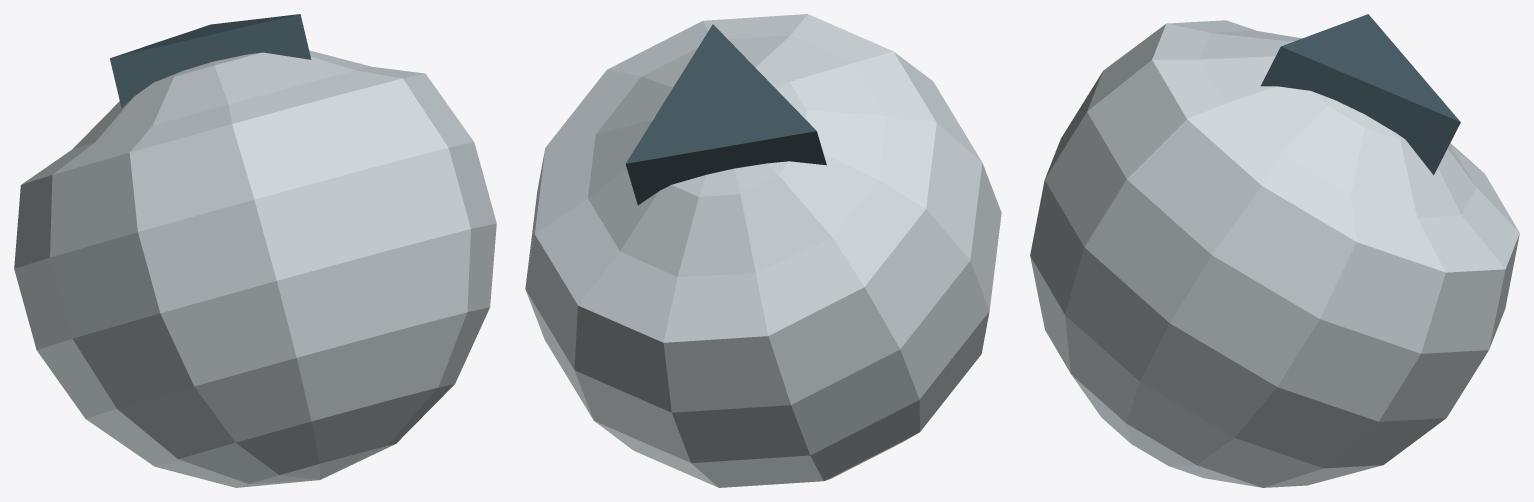
Rendered from playbutton.fbx.
3 views of the same model, side by side, from view 1: azimuth 30°, elevation 25°; view 2: azimuth 150°, elevation 25°; view 3: azimuth 270°, elevation 25° (orthographic).
Visible parts, largest first — view 1: mesh_1865165591, group_581743819; view 2: mesh_1865165591, group_581743819; view 3: mesh_1865165591, group_581743819.
Boxes of the visible parts, x1,y1,x2,y2 form: mesh_1865165591: (14,50,496,487); group_581743819: (110,14,311,108); mesh_1865165591: (525,14,1001,487); group_581743819: (625,24,826,205); mesh_1865165591: (1030,20,1519,487); group_581743819: (1261,14,1460,175).
Size of the model in its own units: 14.75 by 14.84 by 14.93.
